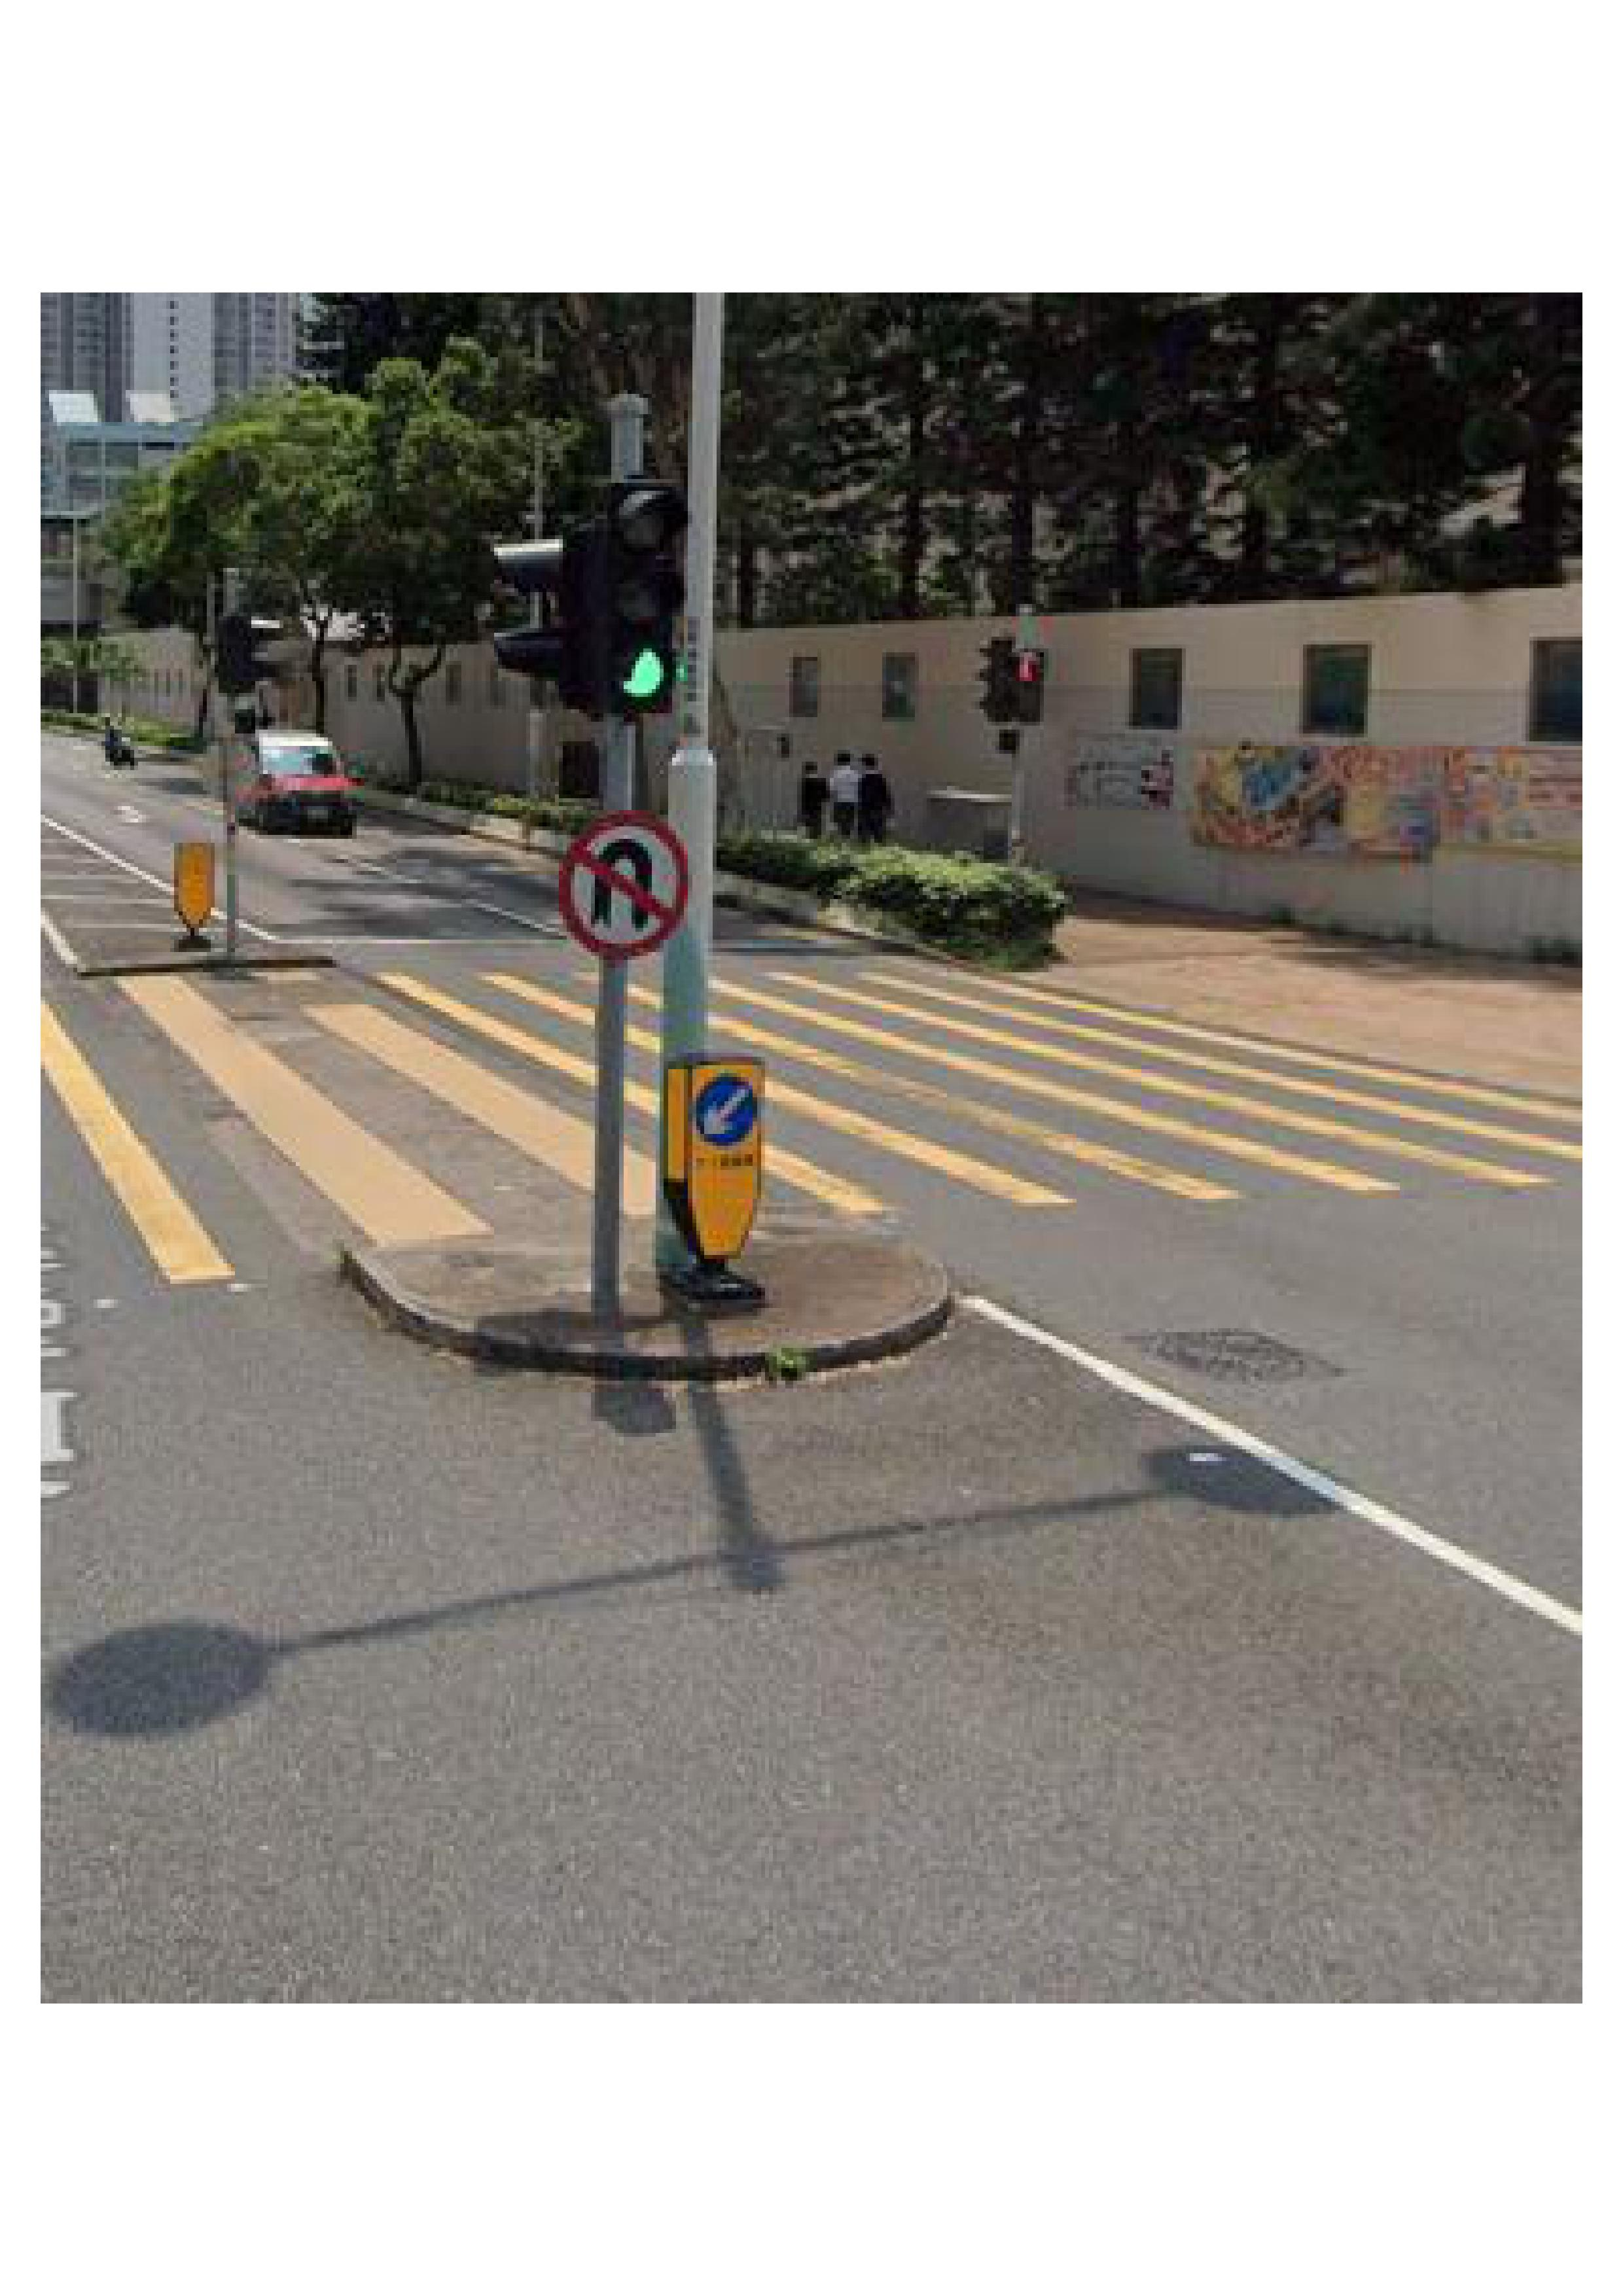No Uturn: (553, 818, 696, 955)
